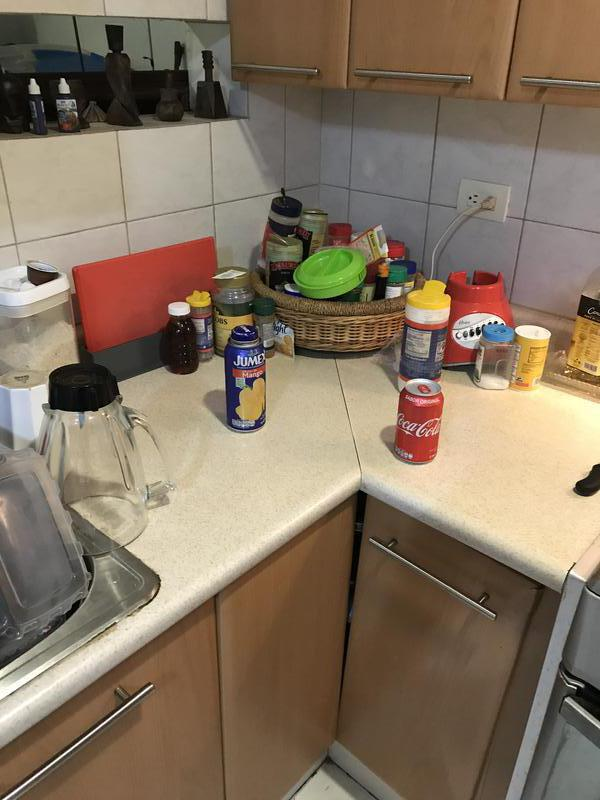coca_cola: (394, 377, 445, 463)
jugo_jumex: (220, 325, 270, 433)
